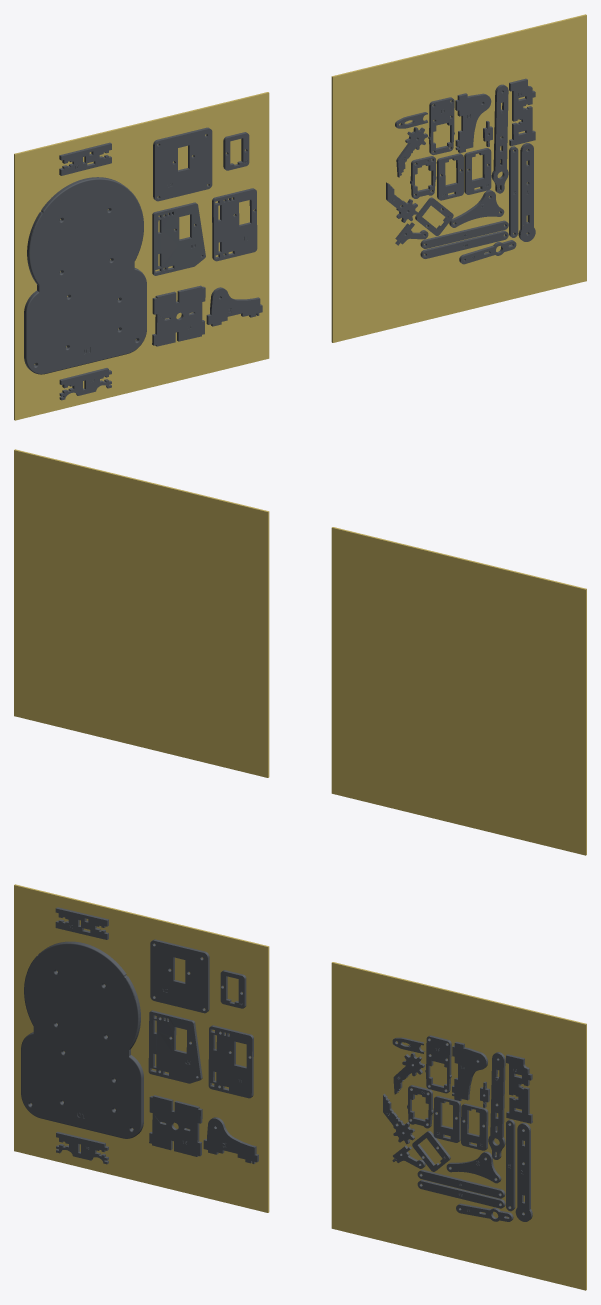
File: plates_knolled.glb
3 views of the same model, one above another, from view 1: azimuth 30°, elevation 25°; view 2: azimuth 150°, elevation 25°; view 3: azimuth 330°, elevation 25° (orthographic).
Visible parts, largest first — view 1: bed_plate_2, bed_plate_1, p1_part_0, p1_part_6, p1_part_4, p1_part_3, p1_part_2, p2_part_18, p2_part_16, p2_part_0, p2_part_17, p1_part_1 (+15 smaller); view 2: bed_plate_1, bed_plate_2; view 3: bed_plate_2, bed_plate_1, p1_part_0, p1_part_6, p1_part_4, p1_part_3, p1_part_2, p2_part_18, p2_part_0, p2_part_16, p1_part_1, p2_part_17 (+15 smaller).
Boxes of the visible parts, bbox=[...] form: bed_plate_2: bbox=[331, 14, 586, 342]; bed_plate_1: bbox=[14, 92, 269, 420]; p1_part_0: bbox=[24, 177, 146, 374]; p1_part_6: bbox=[153, 127, 212, 201]; p1_part_4: bbox=[152, 202, 205, 275]; p1_part_3: bbox=[212, 188, 257, 261]; p1_part_2: bbox=[152, 285, 205, 346]; p2_part_18: bbox=[491, 84, 508, 193]; p2_part_16: bbox=[518, 143, 535, 241]; p2_part_0: bbox=[509, 78, 535, 146]; p2_part_17: bbox=[455, 93, 491, 152]; p1_part_1: bbox=[206, 287, 262, 326]; bed_plate_1: bbox=[331, 527, 586, 855]; bed_plate_2: bbox=[14, 449, 269, 777]; bed_plate_2: bbox=[331, 962, 586, 1290]; bed_plate_1: bbox=[14, 884, 269, 1212]; p1_part_0: bbox=[21, 941, 143, 1138]; p1_part_6: bbox=[150, 939, 209, 1013]; p1_part_4: bbox=[148, 1010, 202, 1083]; p1_part_3: bbox=[208, 1025, 253, 1098]; p1_part_2: bbox=[149, 1095, 202, 1156]; p2_part_18: bbox=[488, 1052, 505, 1159]; p2_part_0: bbox=[506, 1054, 532, 1123]; p2_part_16: bbox=[515, 1122, 532, 1221]; p1_part_1: bbox=[203, 1117, 258, 1163]; p2_part_17: bbox=[452, 1041, 487, 1100].
Size of the model in its own units: 576 by 256 by 6.
